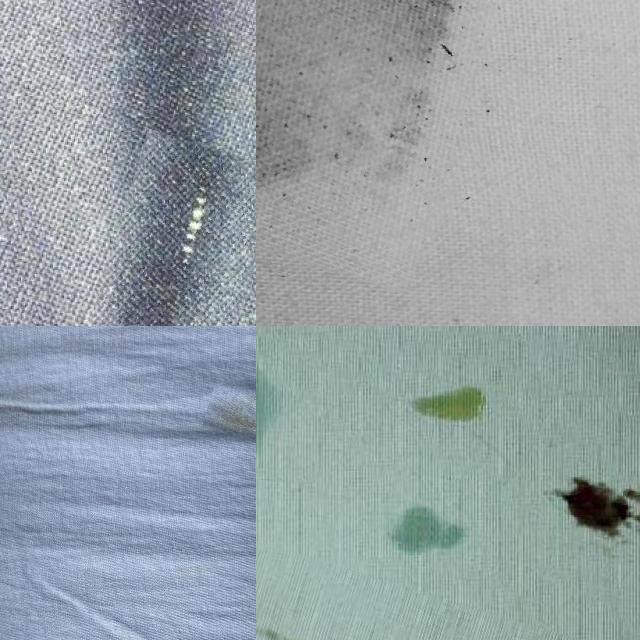Hole: (256, 0, 478, 277), (256, 544, 640, 640), (372, 334, 502, 565), (523, 434, 640, 557), (205, 383, 256, 441)
Thread_other: (103, 136, 256, 326)
